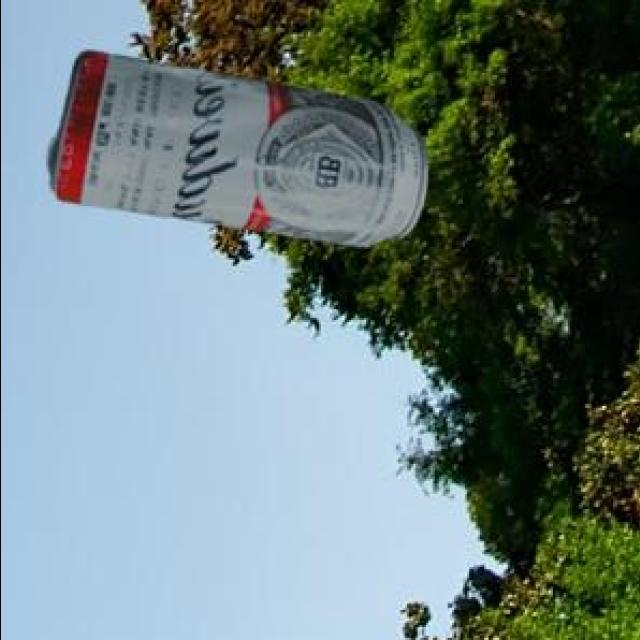logam: (44, 48, 424, 244)
